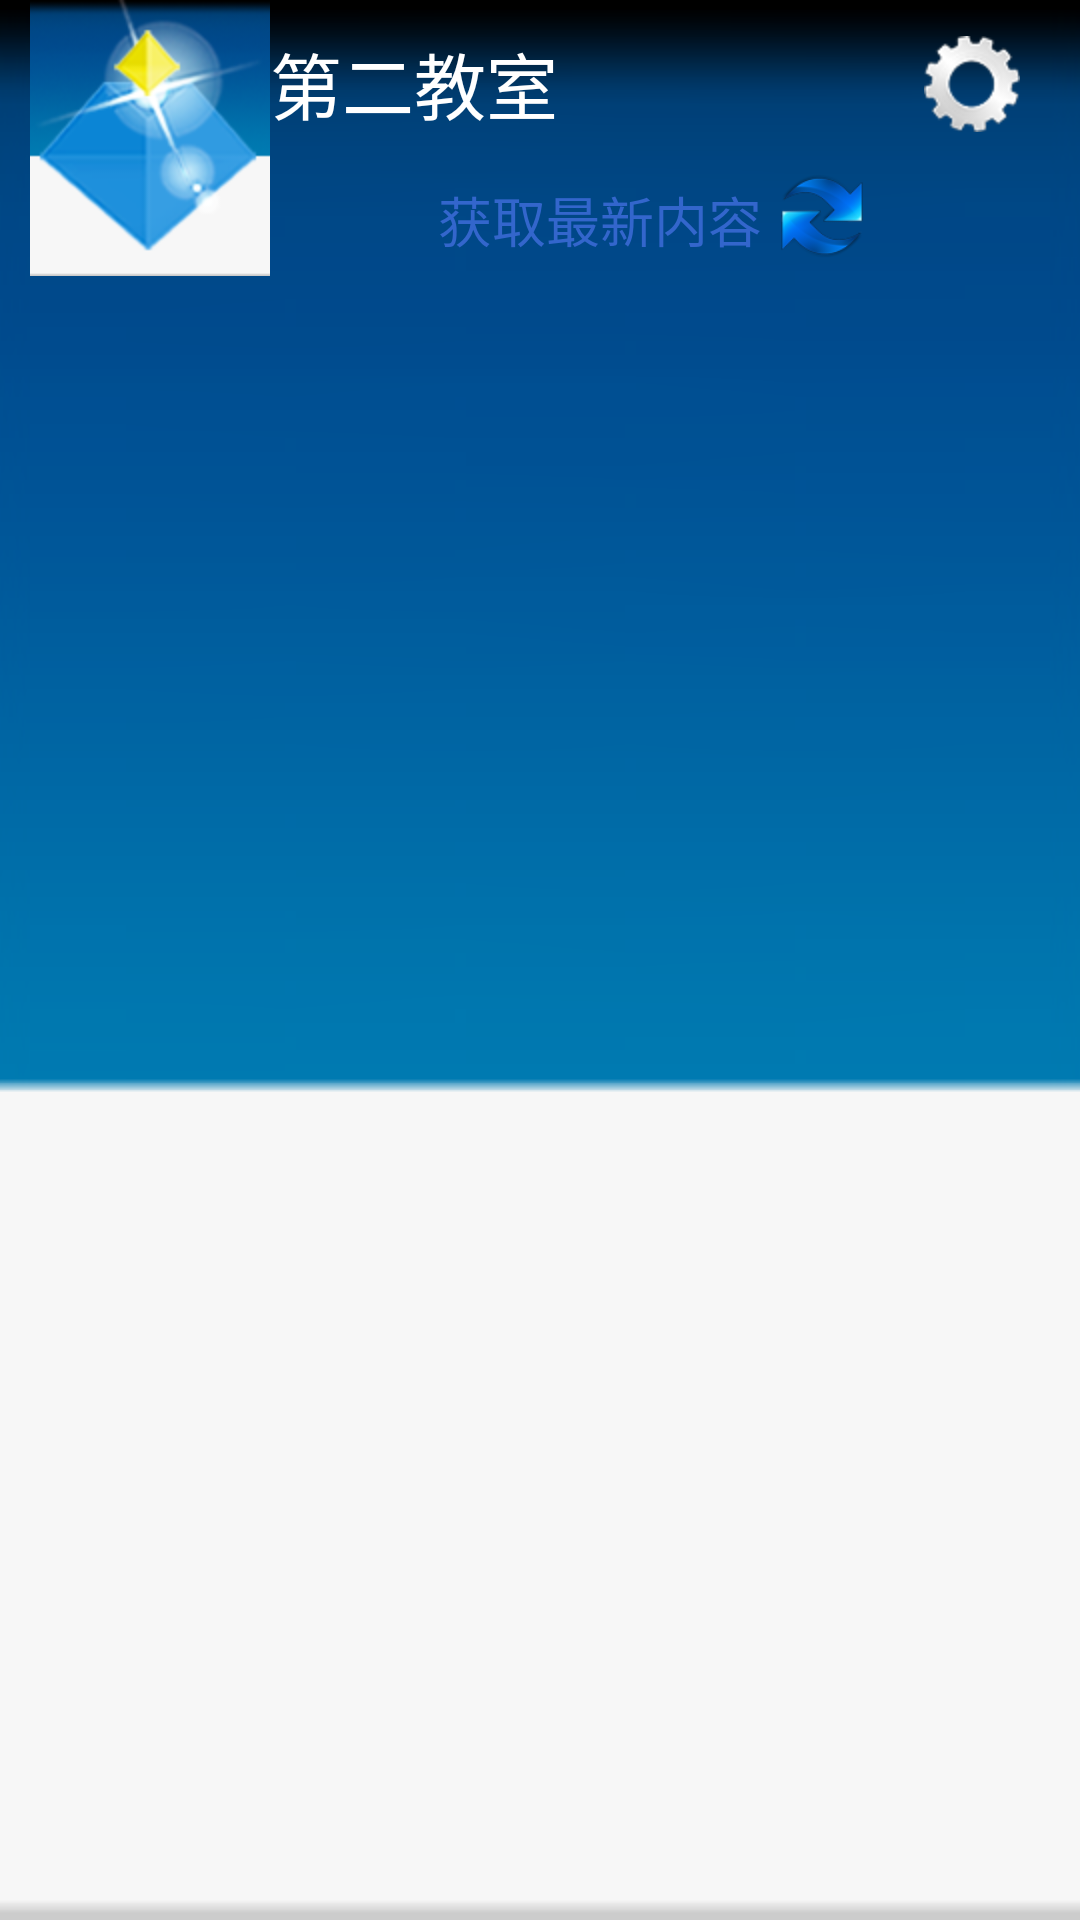

Point at icon controls on the screen. Image size 1080 x 1920, points as point (x, y).
设置: point (972, 78)
